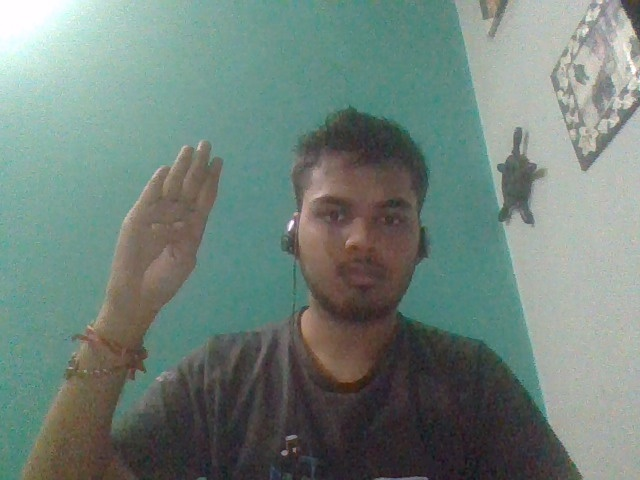hello: (104, 140, 228, 308)
